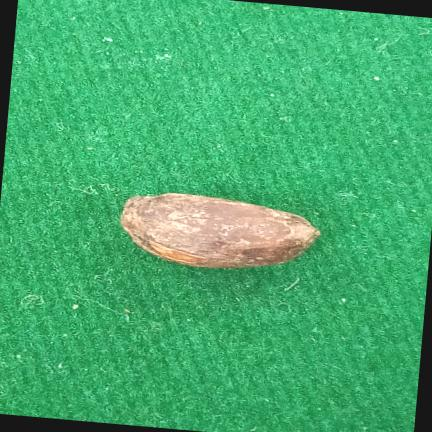husk: (121, 193, 320, 268)
